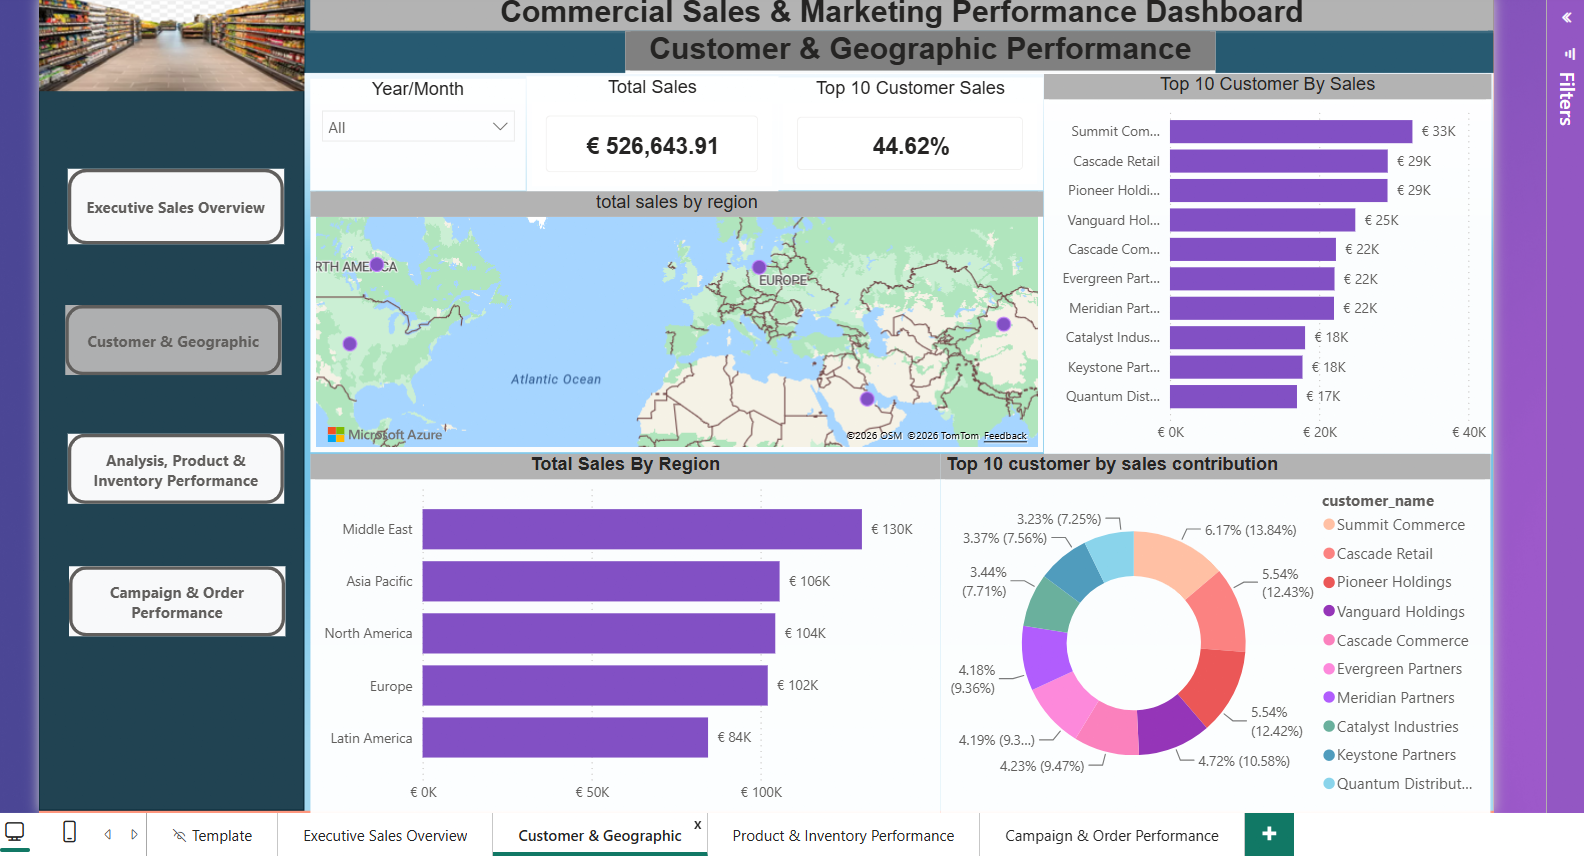

What the dashboard file says about the page in this screenshot:
{"tool":"powerbi","page":{"name":"Customer & Geographic","canvas":[1280,720],"ordinal":2},"visuals":[{"type":"actionButton","title":"Executive Sales Overview","box":[25.4,152.5,190,66.6],"z":0},{"type":"actionButton","box":[23,272.4,190,61.7],"z":1000},{"type":"actionButton","box":[25.4,386.1,190,61.7],"z":2000},{"type":"actionButton","box":[26.6,502.4,190,61.7],"z":3000},{"type":"cardVisual","title":"Total Sales","fields":{"Data":["_Measure.total_sales"]},"box":[428.5,71.4,221.5,101.7],"z":4000},{"type":"slicer","title":"Year/Month","fields":{"Values":["dim_date.year_month"]},"box":[238.3,74.2,189.7,98.5],"z":5000},{"type":"cardVisual","title":"Top 10 Customer Sales ","fields":{"Data":["_Measure.top_10customer_sales_%"]},"box":[650,72.6,233.6,99.3],"z":6000},{"type":"clusteredBarChart","title":"Total Sales By Region","fields":{"Y":["_Measure.total_sales"],"Category":["dim_geo.region","dim_geo.city"]},"box":[238.3,403.6,554.4,316.1],"z":7000},{"type":"clusteredBarChart","title":"Top 10 Customer By Sales","fields":{"Y":["_Measure.total_sales"],"Category":["Dim_Customer.customer_name"]},"box":[883.7,69,393.4,334.1],"z":8000},{"type":"donutChart","title":"Top 10 customer by sales contribution ","fields":{"Y":["_Measure.custmer_sales_%"],"Category":["Dim_Customer.customer_name"]},"box":[792.7,403.6,483.9,316.1],"z":9000},{"type":"azureMap","title":"total sales by region","fields":{"Y":["_Measure.total_sales"],"Category":["dim_geo.region","dim_geo.city"]},"box":[238.5,173.1,645.2,230],"z":10000},{"type":"textbox","title":"Commercial Sales & Marketing Performance Dashboard","box":[238.5,0,1041,31.5],"z":10001},{"type":"textbox","title":"Customer & Geographic Performance","box":[515.7,31.5,519.3,37.5],"z":10002}]}

Visuals, with their boxes on the page's 1280x720 design canvas (x1, y1, x2, y2). These are canvas units, not pixel positions in the 1584x856 screenshot, which may show the page scaled, cropped or inside an application window:
"Executive Sales Overview" actionButton: locate(25, 152, 215, 219)
actionButton: locate(23, 272, 213, 334)
actionButton: locate(25, 386, 215, 448)
actionButton: locate(27, 502, 217, 564)
"Total Sales" cardVisual: locate(428, 71, 650, 173)
"Year/Month" slicer: locate(238, 74, 428, 173)
"Top 10 Customer Sales " cardVisual: locate(650, 73, 884, 172)
"Total Sales By Region" clusteredBarChart: locate(238, 404, 793, 720)
"Top 10 Customer By Sales" clusteredBarChart: locate(884, 69, 1277, 403)
"Top 10 customer by sales contribution " donutChart: locate(793, 404, 1277, 720)
"total sales by region" azureMap: locate(238, 173, 884, 403)
"Commercial Sales & Marketing Performance Dashboard" textbox: locate(238, 0, 1280, 32)
"Customer & Geographic Performance" textbox: locate(516, 32, 1035, 69)
